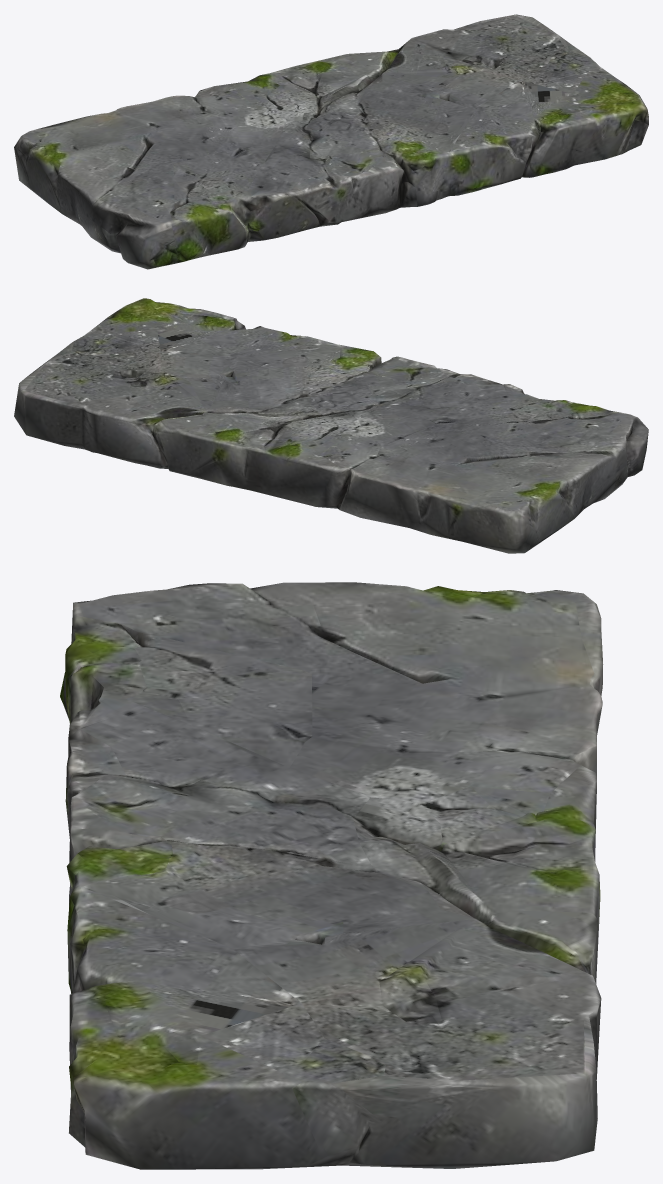
Rendered from step.glb.
3 views of the same model, one above another, from view 1: azimuth 30°, elevation 25°; view 2: azimuth 150°, elevation 25°; view 3: azimuth 270°, elevation 25° (orthographic). The views are drawn at different scales.
Size of the model in its own units: 1.9 by 0.1637 by 0.8494.
Materials: 1 (1 with a texture image).
